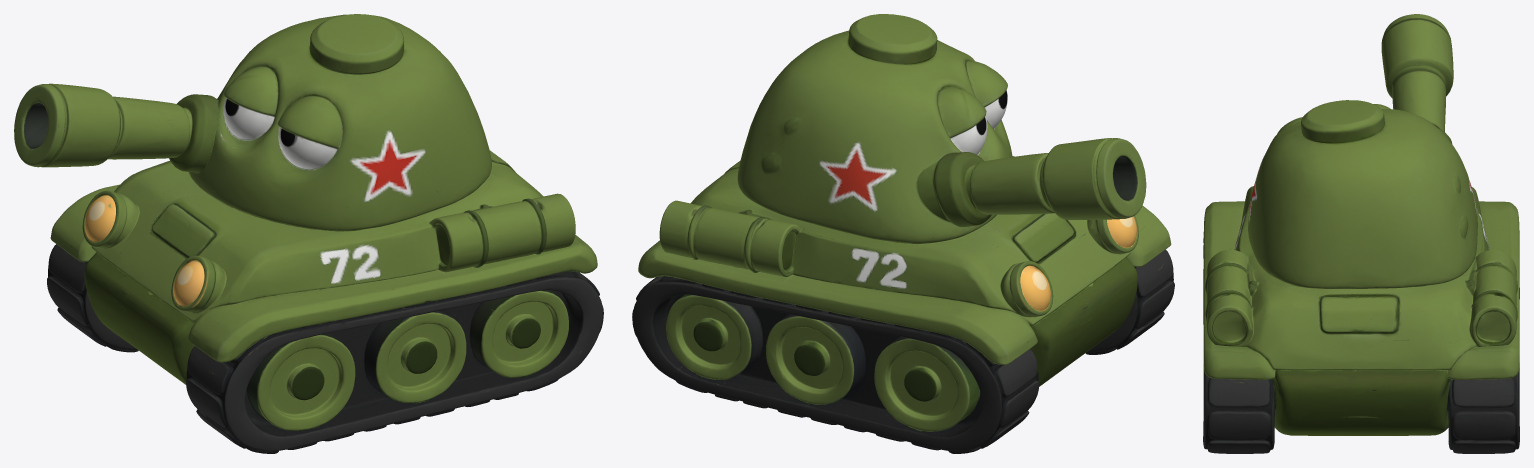
Rendered from team-red.glb.
3 renders of one model, left to right at view 1: azimuth 30°, elevation 25°; view 2: azimuth 150°, elevation 25°; view 3: azimuth 270°, elevation 25°, orthographic. The views are drawn at different scales.
Size of the model in its own units: 1.9 by 1.28 by 1.25.
1 material, 1 textured.
